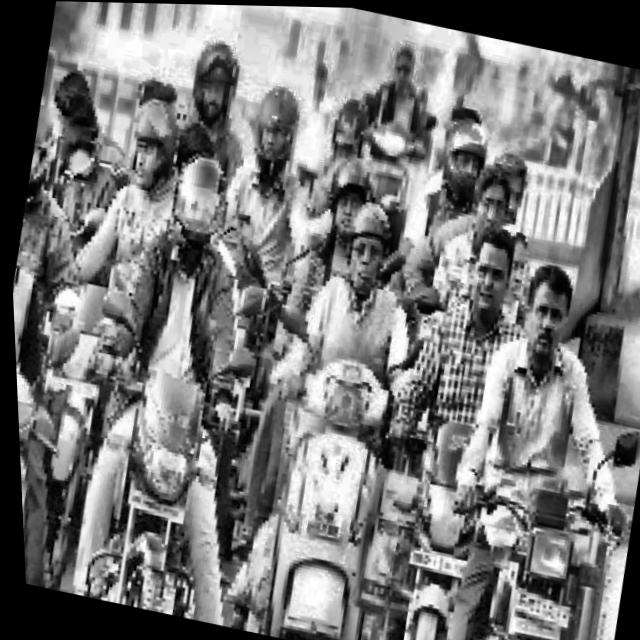motorcycle: (40, 295, 265, 624), (221, 326, 428, 640), (7, 204, 152, 585), (440, 411, 640, 640), (347, 380, 501, 640), (11, 309, 89, 588)
